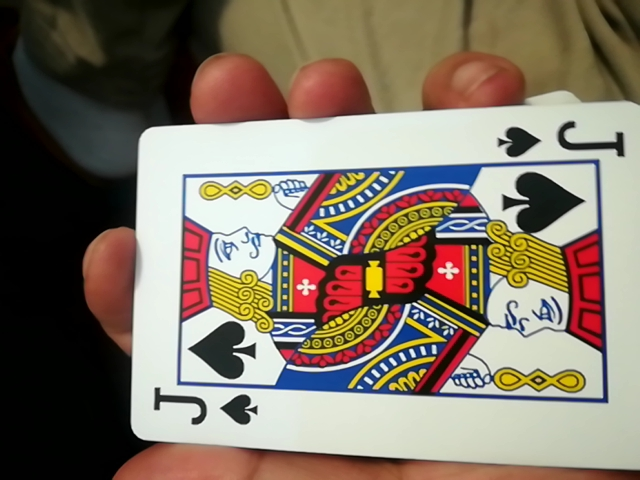ht j: (103, 105, 632, 471)
